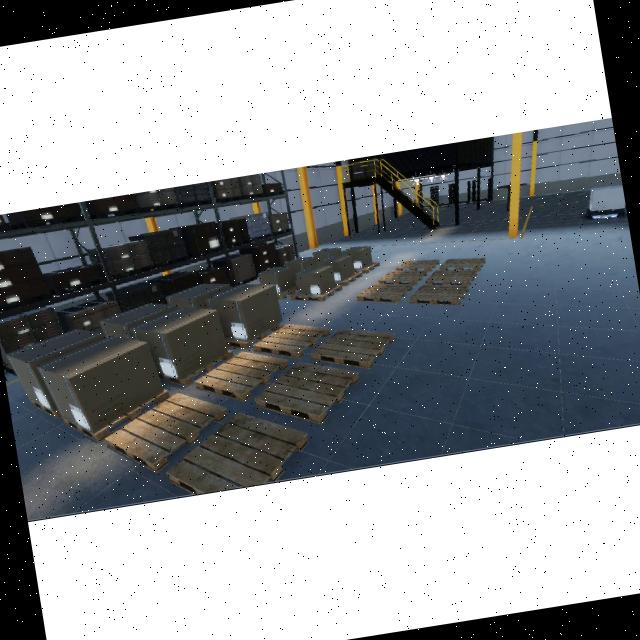wooden_pallet: (61, 388, 169, 442), (159, 349, 234, 386), (225, 323, 280, 349), (290, 284, 342, 301), (29, 398, 61, 418), (334, 272, 363, 286), (353, 262, 380, 274), (277, 287, 299, 300)
